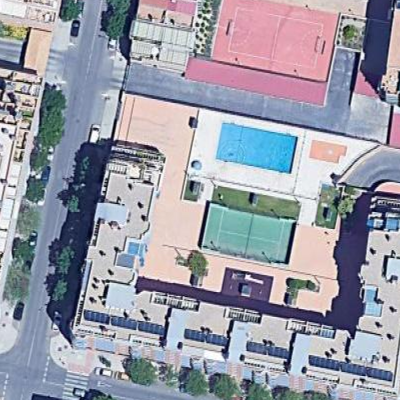tree: (38, 81, 67, 144), (121, 355, 162, 389), (1, 269, 36, 301), (177, 365, 209, 398), (48, 242, 82, 273), (99, 8, 132, 39), (14, 203, 48, 233), (8, 235, 40, 266), (47, 276, 77, 309), (22, 172, 51, 204), (182, 249, 211, 281), (60, 191, 92, 219), (212, 369, 240, 400), (27, 146, 59, 171), (58, 1, 87, 25), (245, 378, 274, 400), (279, 382, 303, 400)
